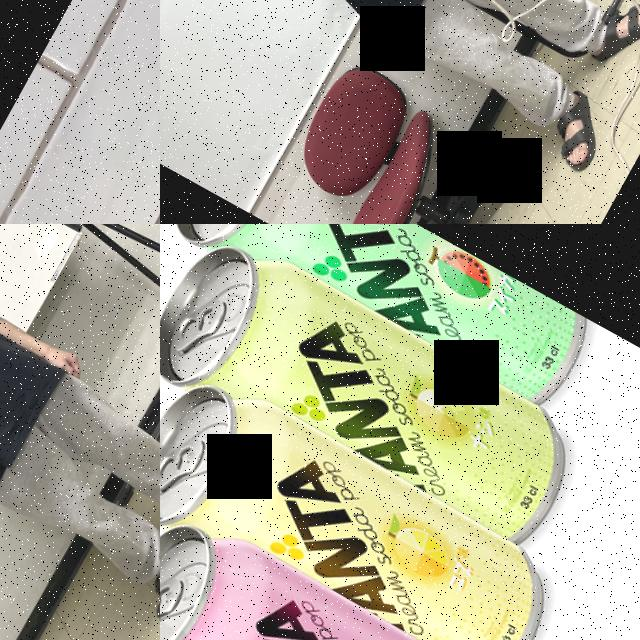can: (160, 224, 599, 579), (160, 353, 569, 640), (162, 224, 609, 440), (160, 490, 566, 640)
